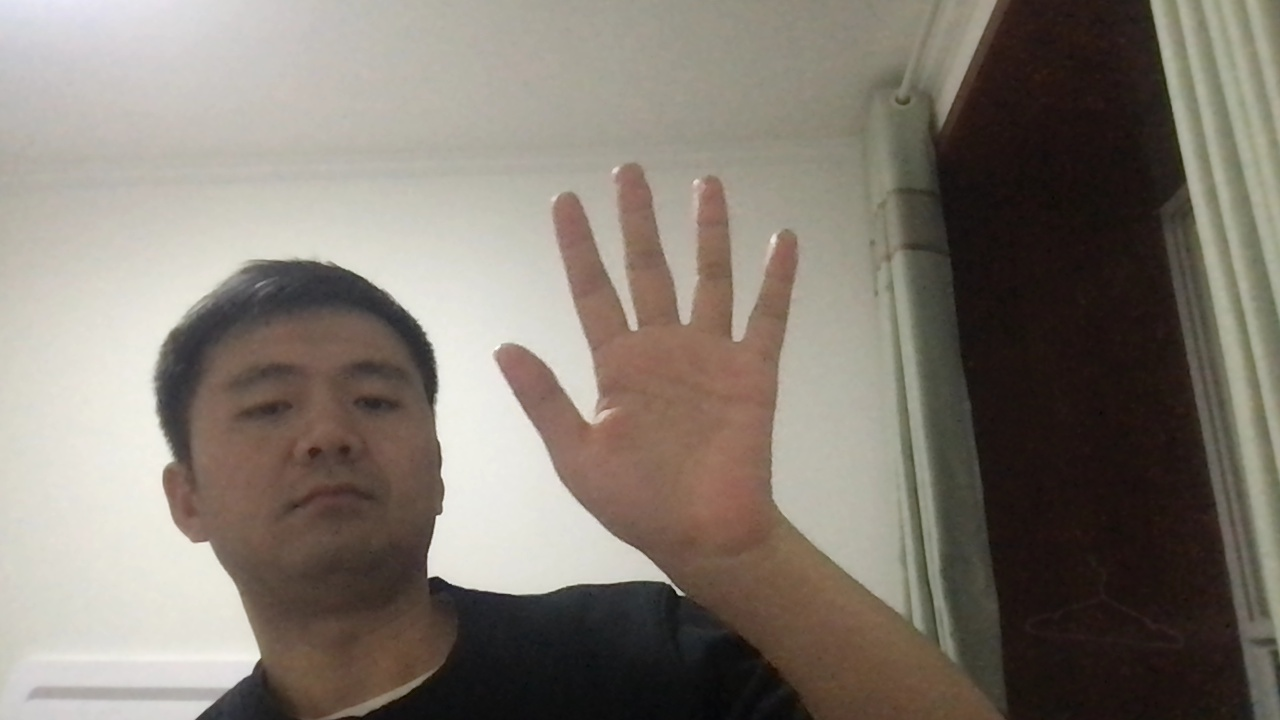hello: (493, 155, 805, 567)
